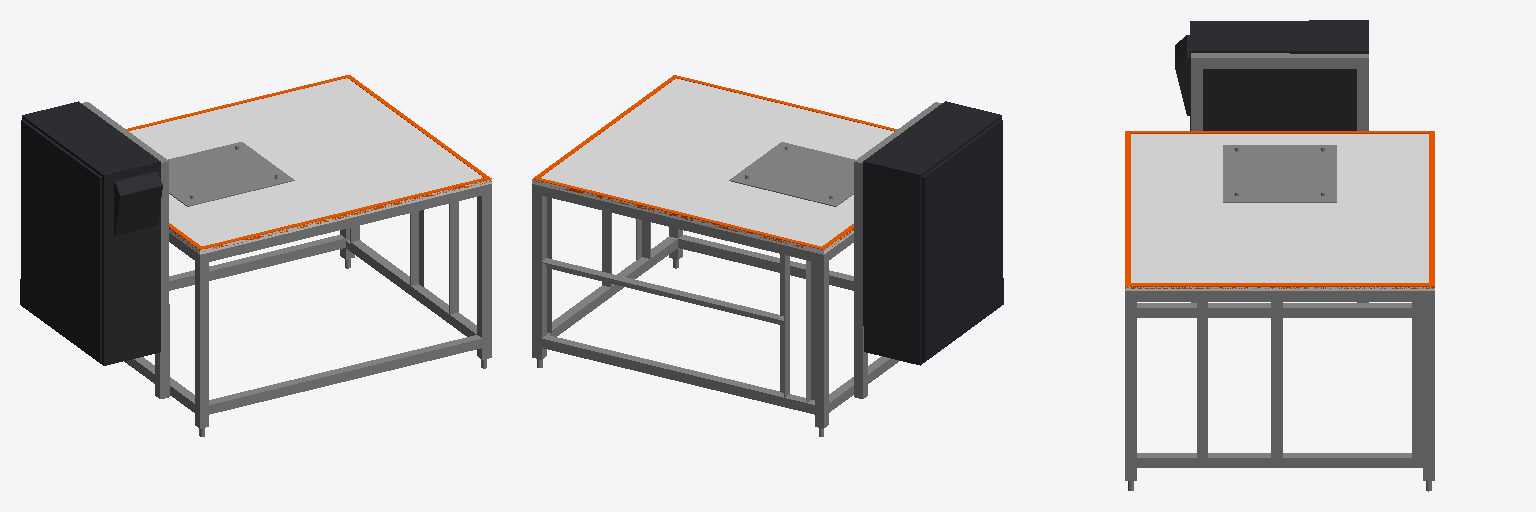
The robot description file, URDF, robot "robo_table":
<?xml version="1.0"?>
<robot name="robo_table">

    <link name="world"/>

    <link name="table_frame">
        <inertial>
            <origin xyz="0.0 0.0 0.0" rpy="0.0 0.0 0.0"/>
            <mass value="30"/>
            <inertia ixx="1.0" ixy="0.0" ixz="0.0"
                     iyy="1.0" iyz="0.0" izz="1.0"/>
        </inertial>
        <visual>
            <origin xyz="0.0 0.0 0.0" rpy="0.0 0.0 0.0"/>
            <geometry>
                <mesh filename="package://iiwa_description/resource/meshes/table/TableFrame.obj"/>
            </geometry>
            <material name="table_metal">
                <color rgba="0.57 0.57 0.57 1.0"/>
            </material>
        </visual>
        <collision>
            <origin xyz="0.0 0.0 0.395" rpy="0.0 0.0 0.0"/>
            <geometry>
                <box size="1.28 1.08 0.79"/>
            </geometry>
        </collision>
    </link>

    <link name="wood_palete">
        <inertial>
            <origin xyz="0.0 0.0 0.0" rpy="0.0 0.0 0.0"/>
            <mass value="10.0"/>
            <inertia ixx="0.5" ixy="0.0" ixz="0.0"
                     iyy="0.5" iyz="0.0" izz="0.5"/>
        </inertial>

        <visual name="top_surface">
            <origin xyz="0.0 0.0 0.0" rpy="0.0 0.0 0.0"/>
            <geometry><box size="1.28 1.08 0.02"/></geometry>
            <material name="table_top">
                <color rgba="0.92 0.92 0.92 1.0"/>
            </material>
        </visual>

        <visual name="border_front">
            <origin xyz="0.0 0.53 0.005" rpy="0.0 0.0 0.0"/>
            <geometry><box size="1.28 0.02 0.014"/></geometry>
            <material name="orange_border"><color rgba="1.0 0.38 0.0 1.0"/></material>
        </visual>

        <visual name="border_back">
            <origin xyz="0.0 -0.53 0.005" rpy="0.0 0.0 0.0"/>
            <geometry><box size="1.28 0.02 0.014"/></geometry>
            <material name="orange_border"><color rgba="1.0 0.38 0.0 1.0"/></material>
        </visual>

        <visual name="border_left">
            <origin xyz="0.63 0.0 0.005" rpy="0.0 0.0 0.0"/>
            <geometry><box size="0.02 1.04 0.014"/></geometry>
            <material name="orange_border"><color rgba="1.0 0.38 0.0 1.0"/></material>
        </visual>

        <visual name="border_right">
            <origin xyz="-0.63 0.0 0.005" rpy="0.0 0.0 0.0"/>
            <geometry><box size="0.02 1.04 0.014"/></geometry>
            <material name="orange_border"><color rgba="1.0 0.38 0.0 1.0"/></material>
        </visual>

        <collision>
            <origin xyz="0.0 0.0 0.0" rpy="0.0 0.0 0.0"/>
            <geometry><box size="1.28 1.08 0.02"/></geometry>
        </collision>
    </link>

    <link name="robot_palete">
        <inertial>
            <origin xyz="0.0 0.0 0.0" rpy="0.0 0.0 0.0"/>
            <mass value="3"/>
            <inertia ixx="0.1" ixy="0.0" ixz="0.0"
                     iyy="0.1" iyz="0.0" izz="0.1"/>
        </inertial>
        <visual>
            <origin xyz="0.0 0.0 0.0" rpy="0.0 0.0 0.0"/>
            <geometry>
                <mesh filename="package://iiwa_description/resource/meshes/table/PlateUnderRobot.obj"/>
            </geometry>
            <material name="table_metal"><color rgba="0.57 0.57 0.57 1.0"/></material>
        </visual>
        <collision>
            <origin xyz="0.0 0.0 0.0" rpy="0.0 0.0 0.0"/>
            <geometry><box size="0.47 0.4 0.01"/></geometry>
        </collision>
    </link>

    <link name="cabinet_frame">
        <inertial>
            <origin xyz="0.0 0.0 0.0" rpy="0.0 0.0 0.0"/>
            <mass value="5.0"/>
            <inertia ixx="0.2" ixy="0.0" ixz="0.0"
                     iyy="0.2" iyz="0.0" izz="0.2"/>
        </inertial>
        <visual>
            <origin xyz="0.0 0.0 0.0" rpy="1.57 0.0 1.57"/>
            <geometry>
                <mesh filename="package://iiwa_description/resource/meshes/table/CabinetFrame.obj"/>
            </geometry>
            <material name="table_metal"><color rgba="0.57 0.57 0.57 1.0"/></material>
        </visual>
    </link>

    <link name="cabinet">
        <inertial>
            <origin xyz="0.0 0.0 0.0" rpy="0.0 0.0 0.0"/>
            <mass value="15.0"/>
            <inertia ixx="0.5" ixy="0.0" ixz="0.0"
                     iyy="0.5" iyz="0.0" izz="0.5"/>
        </inertial>
        <visual>
            <origin xyz="0.0 0.31 0.0" rpy="1.57 0.0 -1.57"/>
            <geometry>
                <mesh filename="package://iiwa_description/resource/meshes/table/ElectricCabinet.obj"/>
            </geometry>
            <material name="cabinet_dark"><color rgba="0.2 0.2 0.22 1.0"/></material>
        </visual>
        <collision>
            <origin xyz="-0.12 0 0.4" rpy="1.57 0.0 1.57"/>
            <geometry><box size="0.65 0.83 0.32"/></geometry>
        </collision>
    </link>

    <joint name="world_frame" type="fixed">
        <origin xyz="0.0 0.0 0.0" rpy="0.0 0.0 0.0"/>
        <parent link="world"/>
        <child link="table_frame"/>
    </joint>

    <joint name="frame_palete" type="fixed">
        <origin xyz="0.0 0.0 0.79" rpy="0.0 0.0 0.0"/>
        <parent link="table_frame"/>
        <child link="wood_palete"/>
    </joint>

    <joint name="paletes" type="fixed">
        <origin xyz="-0.263 0.0 0.02" rpy="0.0 0.0 0.0"/>
        <parent link="wood_palete"/>
        <child link="robot_palete"/>
    </joint>

    <joint name="frames" type="fixed">
        <origin xyz="-0.66 0.0 0.09" rpy="0.0 0.0 0.0"/>
        <parent link="table_frame"/>
        <child link="cabinet_frame"/>
    </joint>

    <joint name="cabinets" type="fixed">
        <origin xyz="-0.022 0 0.2" rpy="0.0 0.0 0.0"/>
        <parent link="cabinet_frame"/>
        <child link="cabinet"/>
    </joint>

</robot>

--- What the picture shows (computed from the rendered views, not written in the file) ---
The picture shows the robot from 3 angles, left to right: view 1: azimuth 30°, elevation 25°; view 2: azimuth 150°, elevation 25°; view 3: azimuth 270°, elevation 25°; orthographic projection.
Model robo_table with 6 links and 5 joints (5 fixed), rooted at world, posed every joint at zero.
Visible links, largest first — view 1: wood_palete, cabinet, table_frame, robot_palete, cabinet_frame; view 2: wood_palete, cabinet, table_frame, robot_palete, cabinet_frame; view 3: wood_palete, table_frame, cabinet, robot_palete, cabinet_frame.
Boxes of the visible links, bbox=[...] form: wood_palete: bbox=[126, 75, 491, 254]; cabinet: bbox=[20, 101, 162, 365]; table_frame: bbox=[124, 184, 491, 436]; robot_palete: bbox=[168, 142, 294, 206]; cabinet_frame: bbox=[81, 102, 169, 398]; wood_palete: bbox=[532, 75, 897, 254]; cabinet: bbox=[863, 101, 1003, 365]; table_frame: bbox=[532, 184, 960, 436]; robot_palete: bbox=[729, 142, 854, 206]; cabinet_frame: bbox=[854, 102, 941, 398]; wood_palete: bbox=[1125, 131, 1434, 290]; table_frame: bbox=[1125, 291, 1434, 491]; cabinet: bbox=[1175, 20, 1368, 130]; robot_palete: bbox=[1223, 145, 1336, 202]; cabinet_frame: bbox=[1191, 53, 1368, 302].
Size in the robot's own frame: 1.58 by 1.08 by 1.08 metres.
Meshes: 4 distinct files referenced, 4 mesh visuals loaded (4 OBJ).
